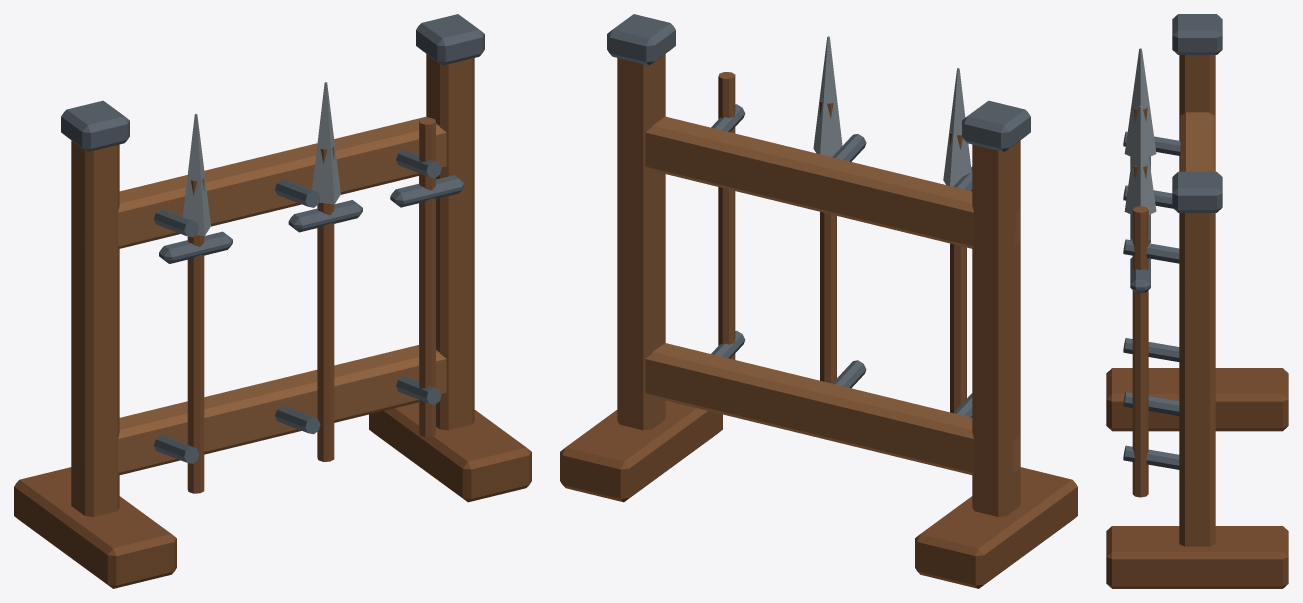
The model's file is PROP_16_WeaponRack.glb.
3 views of the same model, side by side, from view 1: azimuth 30°, elevation 25°; view 2: azimuth 150°, elevation 25°; view 3: azimuth 270°, elevation 25° (orthographic). The views are drawn at different scales.
Visible parts, largest first — view 1: PROP_16_WeaponRack; view 2: PROP_16_WeaponRack; view 3: PROP_16_WeaponRack.
Boxes of the visible parts, x1,y1,x2,y2 form: PROP_16_WeaponRack: [14, 14, 531, 588]; PROP_16_WeaponRack: [560, 14, 1077, 588]; PROP_16_WeaponRack: [1106, 14, 1288, 588].
Bounding box in the file's own units: 1.96 × 1.94 × 0.8.
